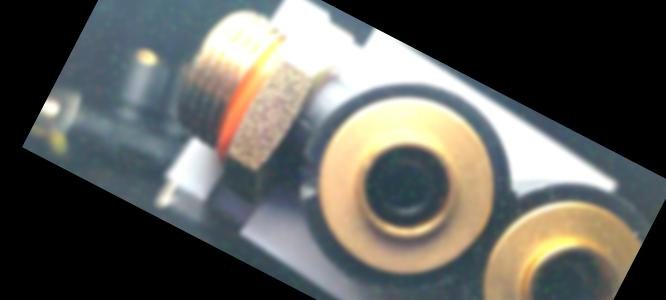bump: (280, 149, 334, 209)
white mark: (295, 113, 318, 133)
